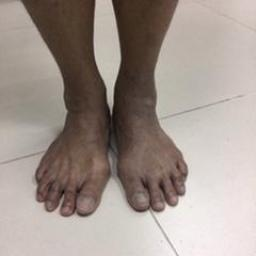Front View -Both Feet-: (28, 54, 198, 224)
